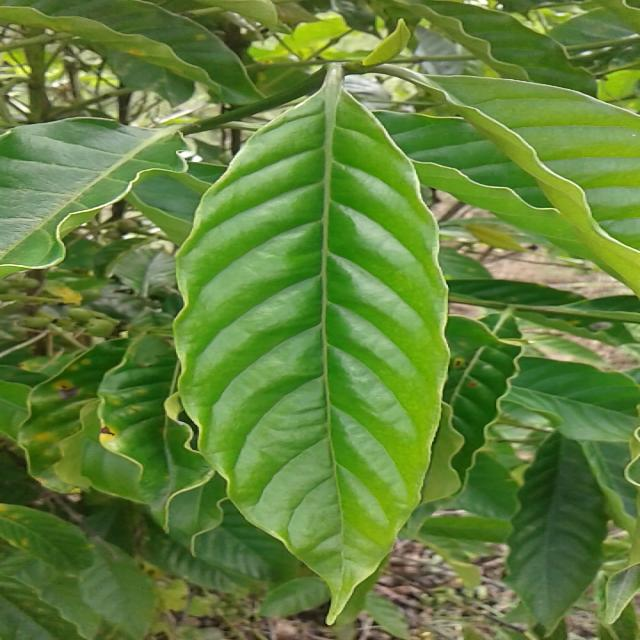Sanas: (168, 64, 451, 628)
